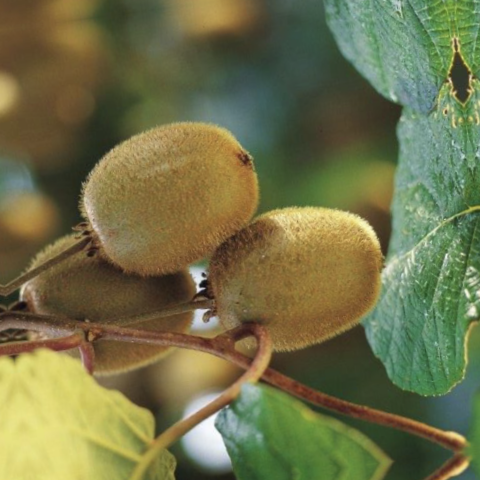kiwi: (179, 173, 398, 375), (2, 204, 219, 385), (65, 101, 270, 289)
